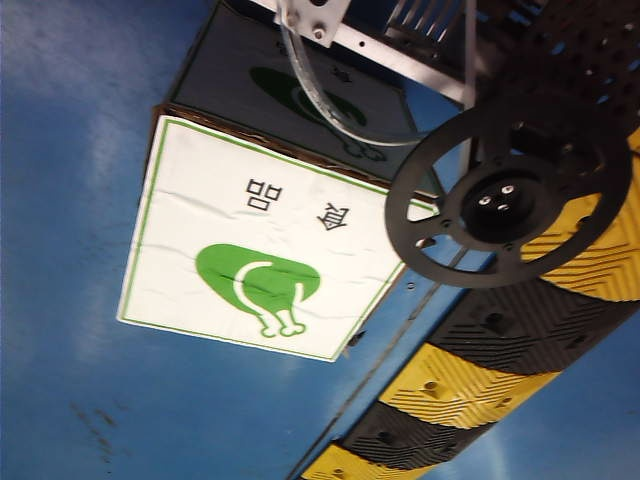Cube_food: (175, 173, 364, 345)
